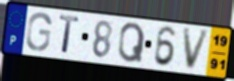6: (152, 25, 178, 69)
8: (91, 19, 114, 59)
G: (25, 11, 54, 53)
Q: (117, 21, 146, 64)
T: (58, 14, 81, 56)
V: (182, 27, 212, 72)
